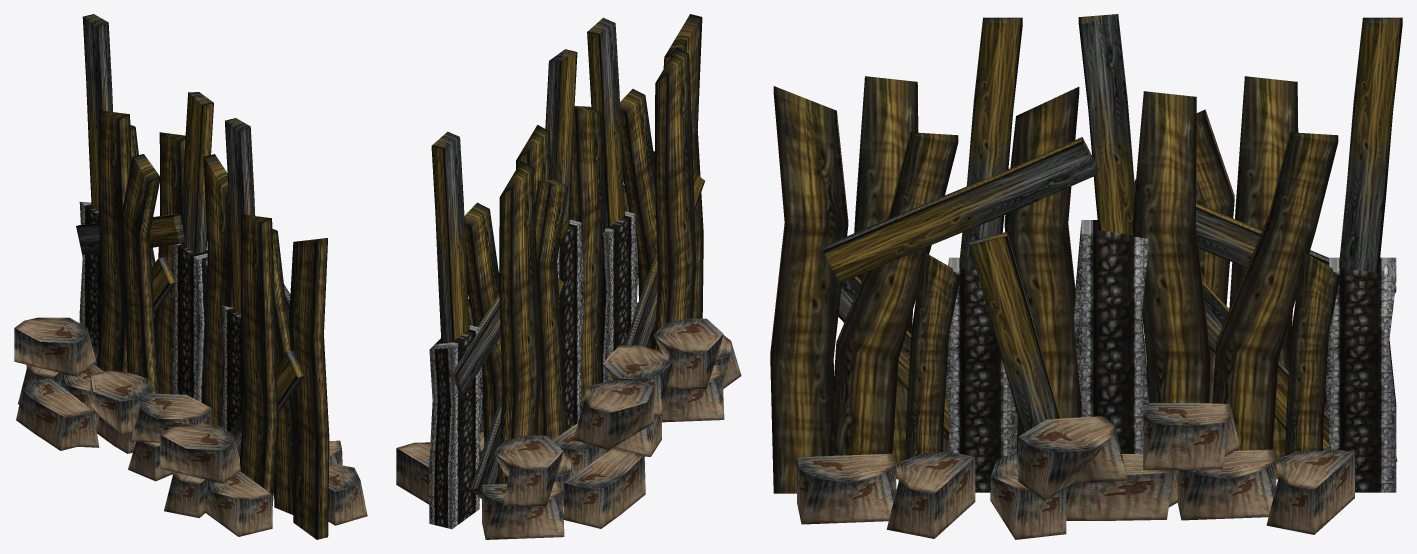
The model's file is CB_WOOD_BARACADE01.fbx.
3 renders of one model, left to right at view 1: azimuth 30°, elevation 25°; view 2: azimuth 150°, elevation 25°; view 3: azimuth 270°, elevation 25°, orthographic. The views are drawn at different scales.
Visible parts, largest first — view 1: CB_WOOD_BARACADE01; view 2: CB_WOOD_BARACADE01; view 3: CB_WOOD_BARACADE01.
Part boxes in pixels (<box>): CB_WOOD_BARACADE01: <box>14,14,367,539</box>; CB_WOOD_BARACADE01: <box>396,14,741,539</box>; CB_WOOD_BARACADE01: <box>770,14,1402,539</box>.
Bounding box in the file's own units: 22187 × 38668 × 45634.
4 materials, 4 textured.
